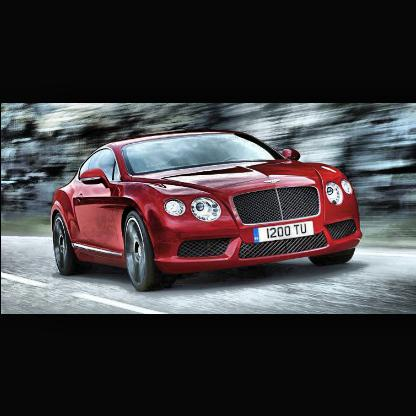Bentley Continental GT Coupe 2012: (48, 127, 367, 291)
